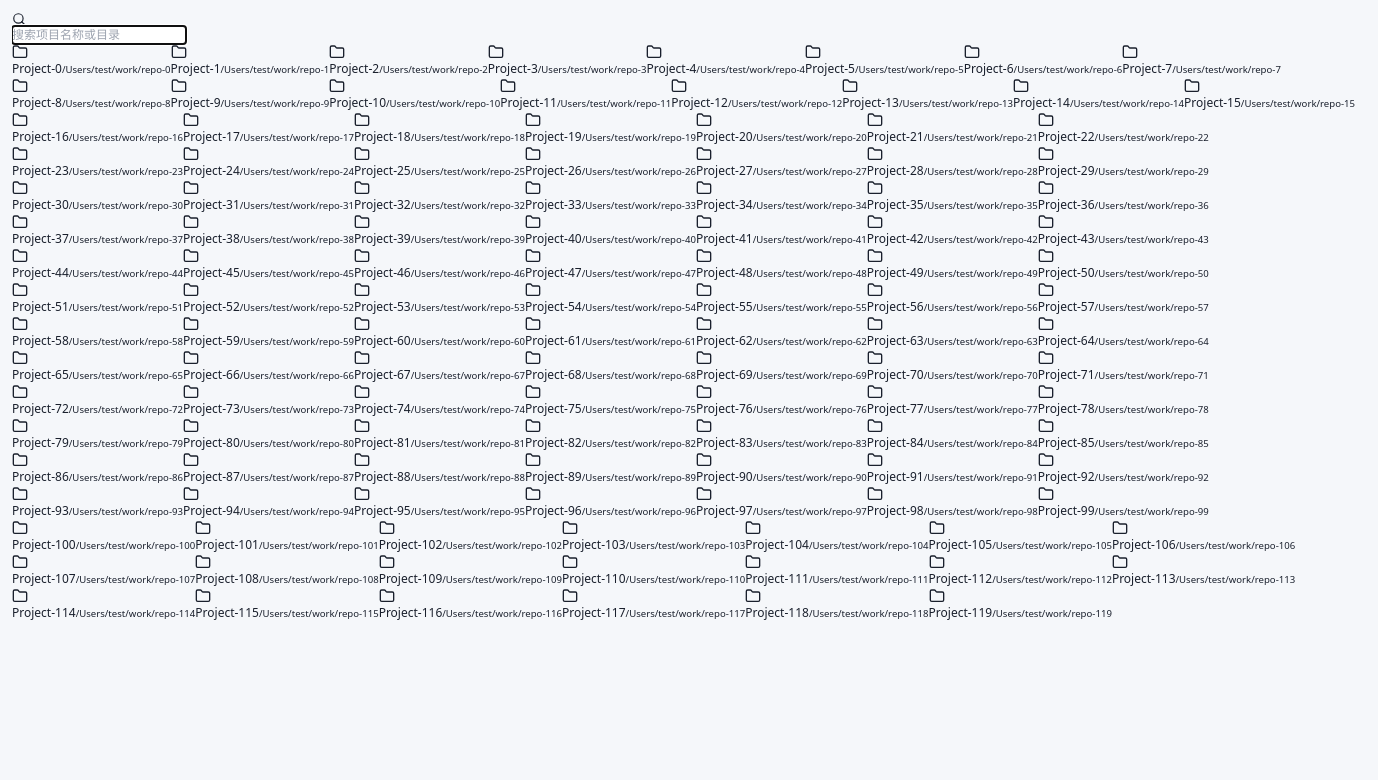
project selectors › task project modal supports case-insensitive name and path terms
The image size is (1378, 780).
Type "PROJECT-11 work" into the field named "搜索任务项目" at {"x": 99, "y": 35}, box [12,26,186,44]
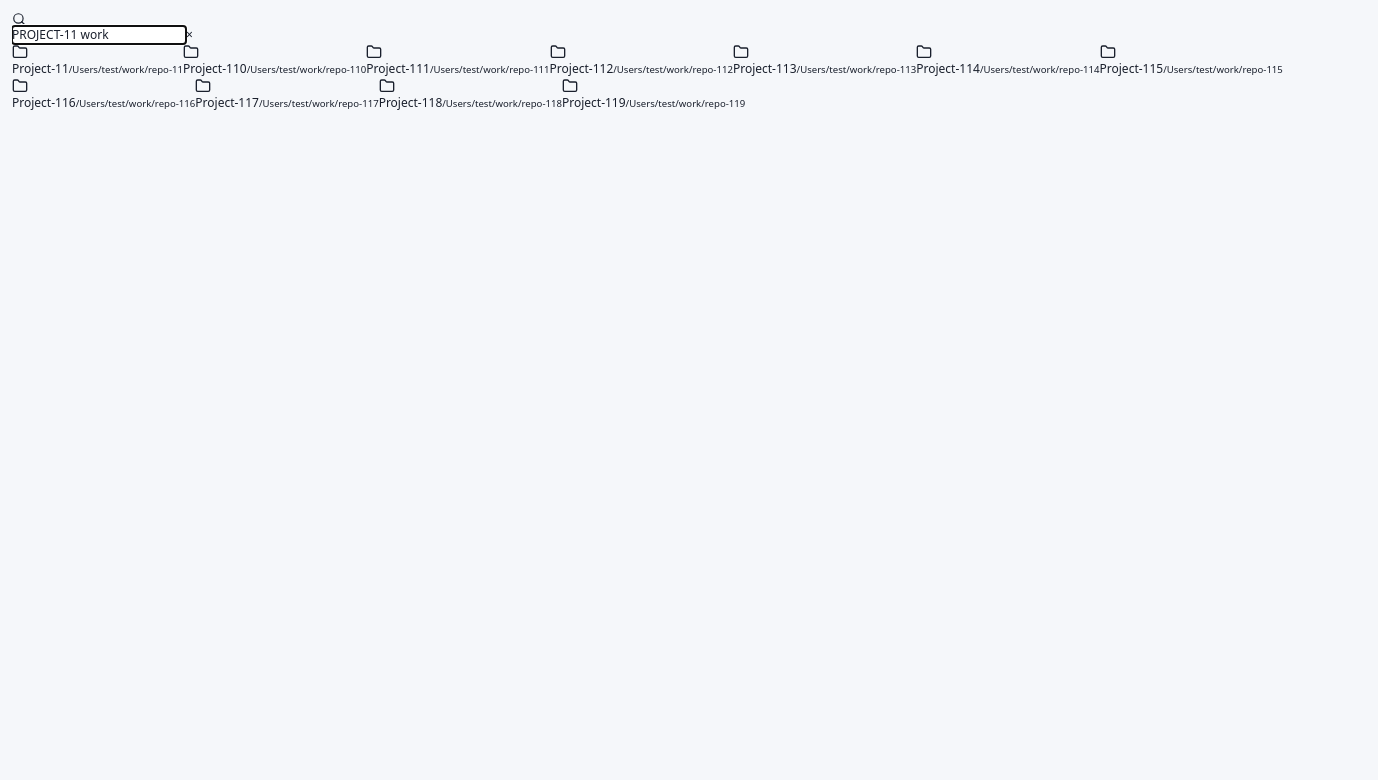
Check: the number of options is 11
